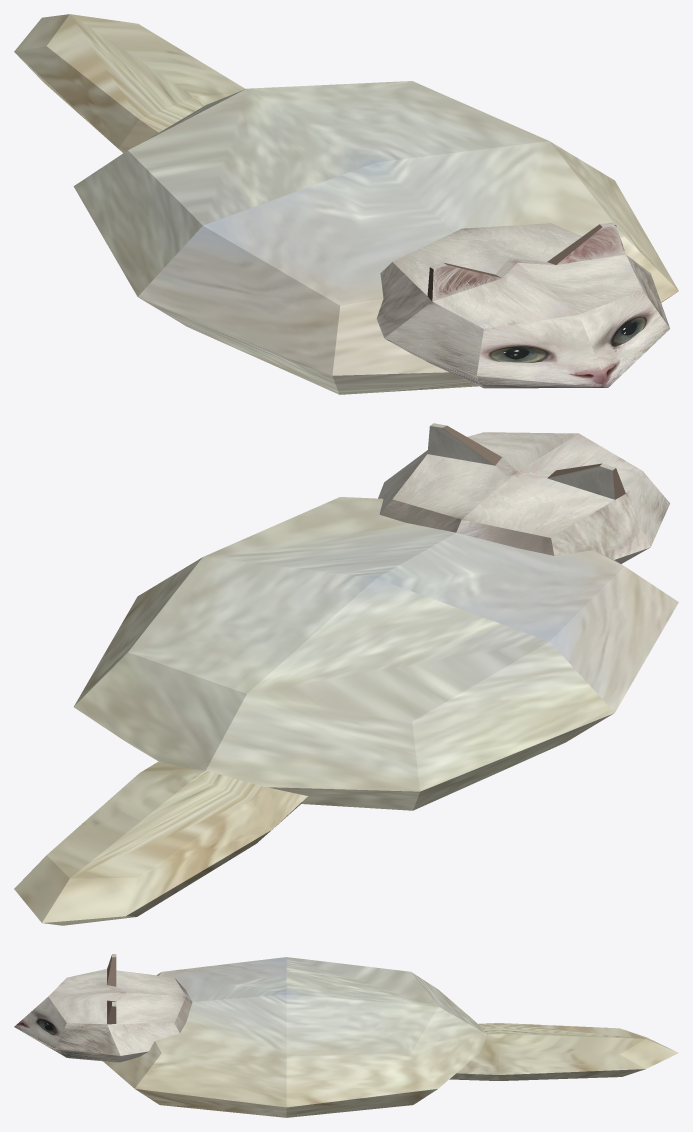
File: flat.glb
3 renders of one model, top to bottom at view 1: azimuth 30°, elevation 25°; view 2: azimuth 150°, elevation 25°; view 3: azimuth 270°, elevation 25°, orthographic. The views are drawn at different scales.
Visible parts, largest first — view 1: CAT.001, CAT.002, CAT; view 2: CAT.001, CAT.002, CAT; view 3: CAT.001, CAT.002, CAT.
Boxes of the visible parts, left/top/right/bottom form: CAT.001: left=73, top=81, right=678, bottom=394; CAT.002: left=376, top=222, right=669, bottom=388; CAT: left=14, top=14, right=245, bottom=153; CAT.001: left=74, top=497, right=678, bottom=810; CAT.002: left=378, top=423, right=669, bottom=563; CAT: left=14, top=761, right=307, bottom=925; CAT.001: left=103, top=957, right=486, bottom=1117; CAT.002: left=14, top=954, right=192, bottom=1062; CAT: left=449, top=1023, right=678, bottom=1080.
Size of the model in its own units: 1.96 by 0.5634 by 4.04.
2 materials, 2 textured.
